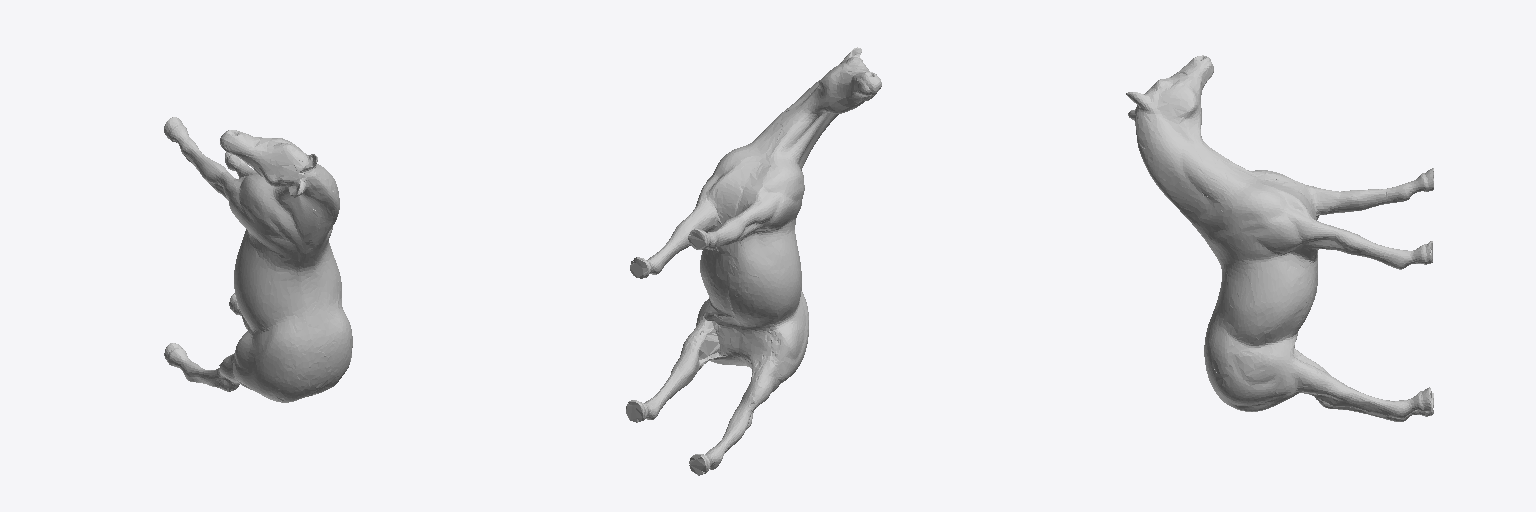
File: horse.fine.90k_0.2.obj
3 views of the same model, side by side, from view 1: azimuth 30°, elevation 25°; view 2: azimuth 150°, elevation 25°; view 3: azimuth 270°, elevation 25° (orthographic).
Size of the model in its own units: 0.915 by 2 by 1.67.